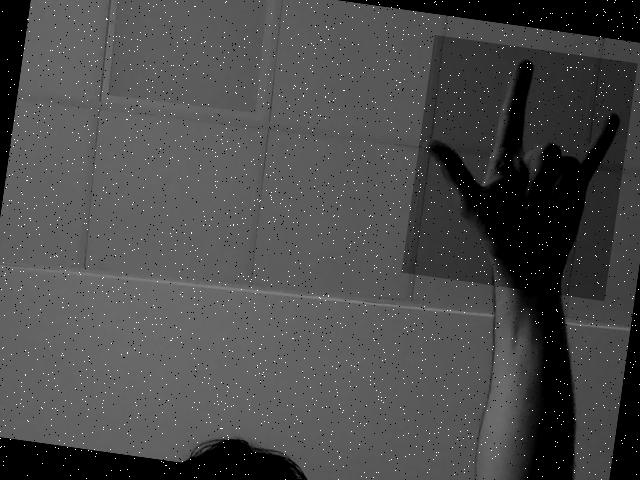I_Love_You: (420, 47, 629, 289)
